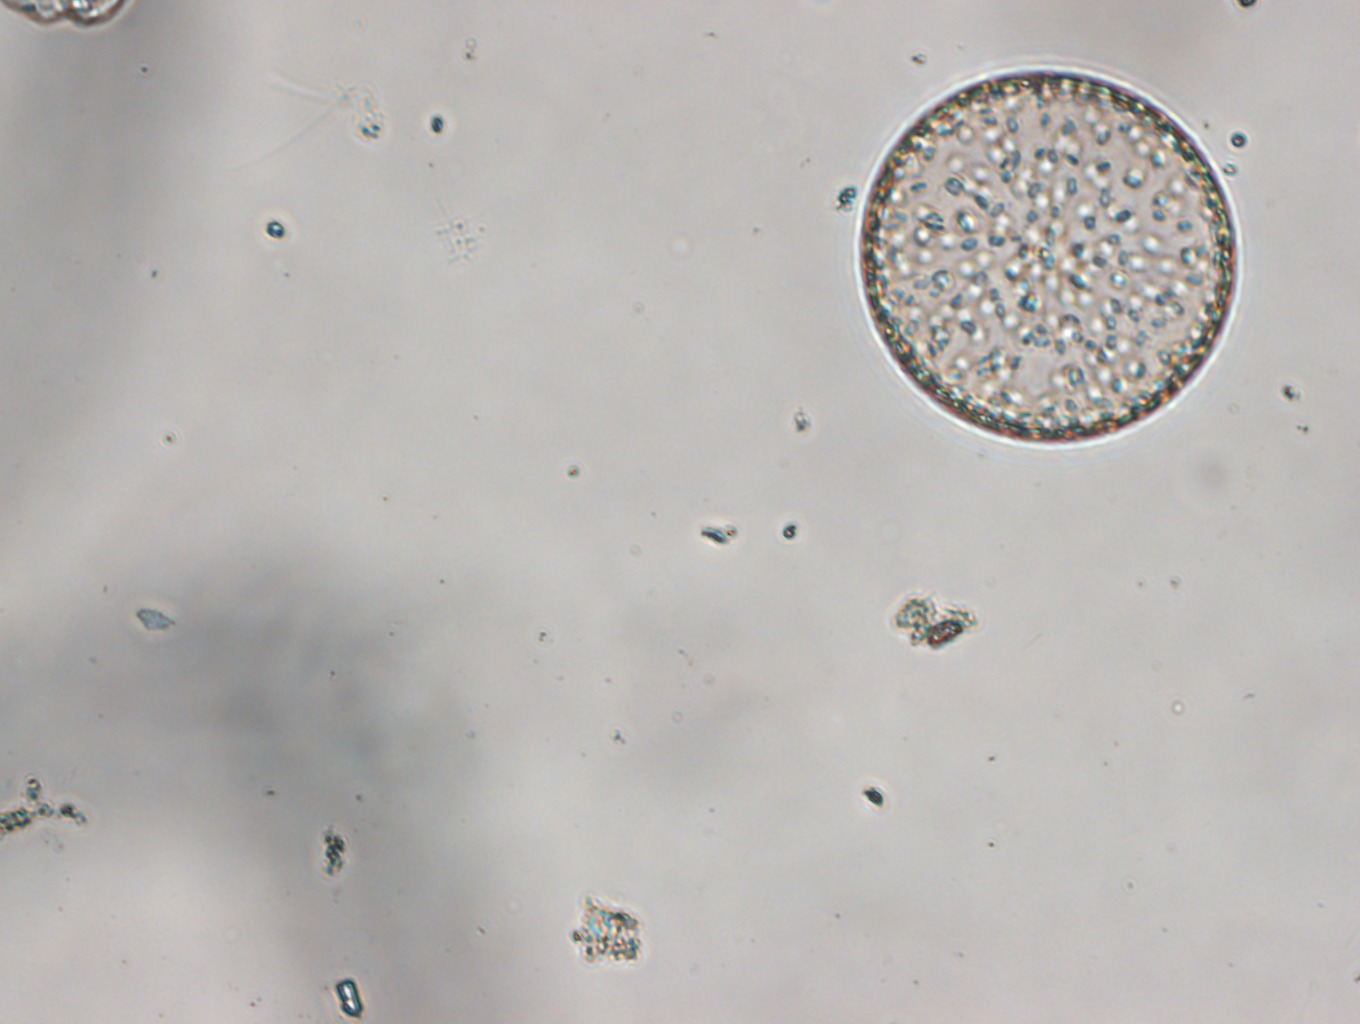coscinodiscus: (849, 58, 1245, 451)
